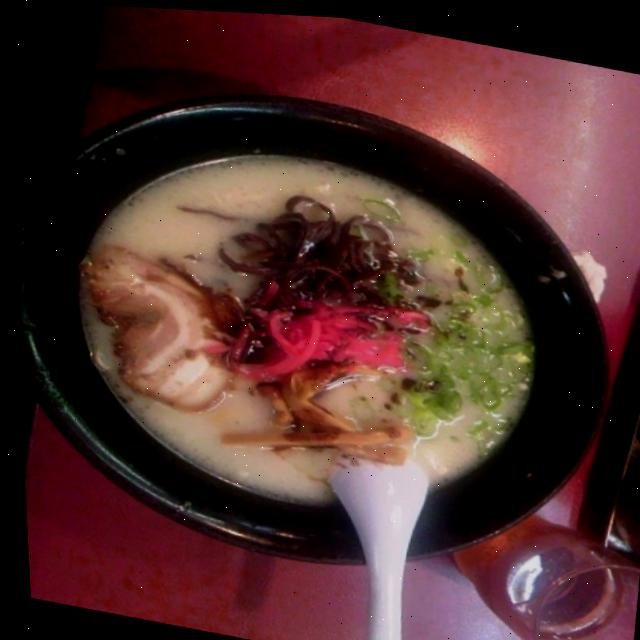面条主食: (1, 36, 640, 616)
